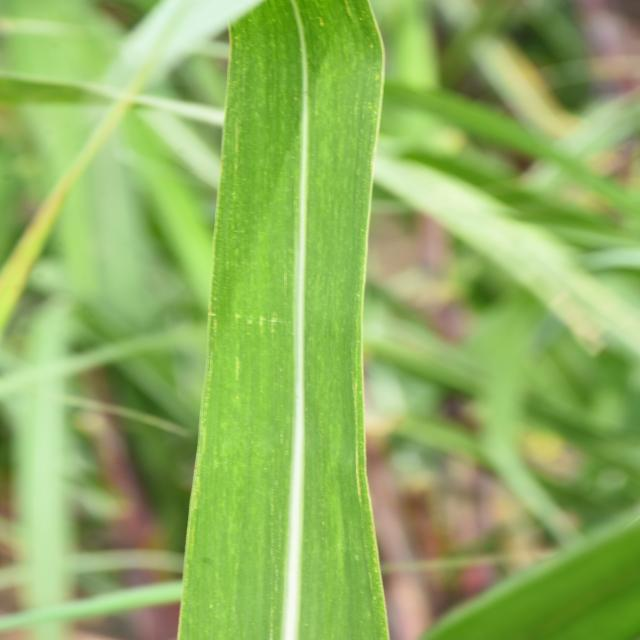Sugarcane: (176, 2, 400, 640)
